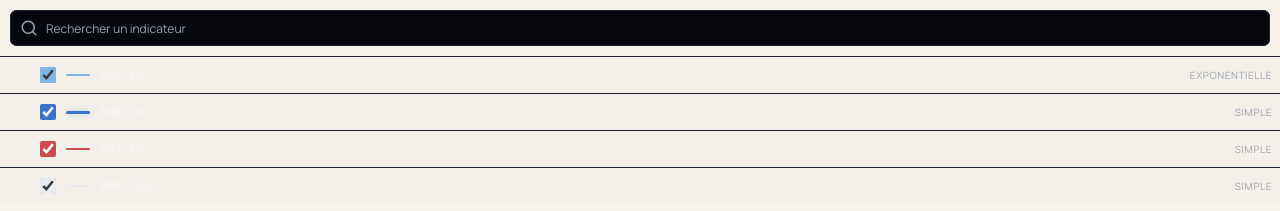
it: indicator library — §13 › says so rather than showing nothing when a search matches no real indicator
Type "ichimoku" into the search field with test id "indicator-search". click: point(653, 28)
box: [46,10,1260,46]
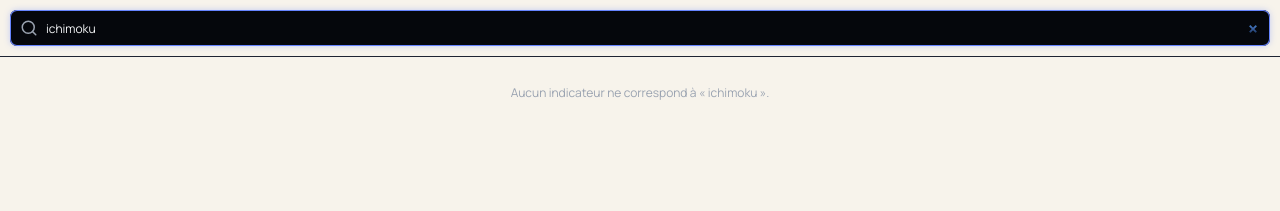
Expected: the text "Aucun indicateur ne correspond à « ichimoku »." is shown, [511,84,769,101]
